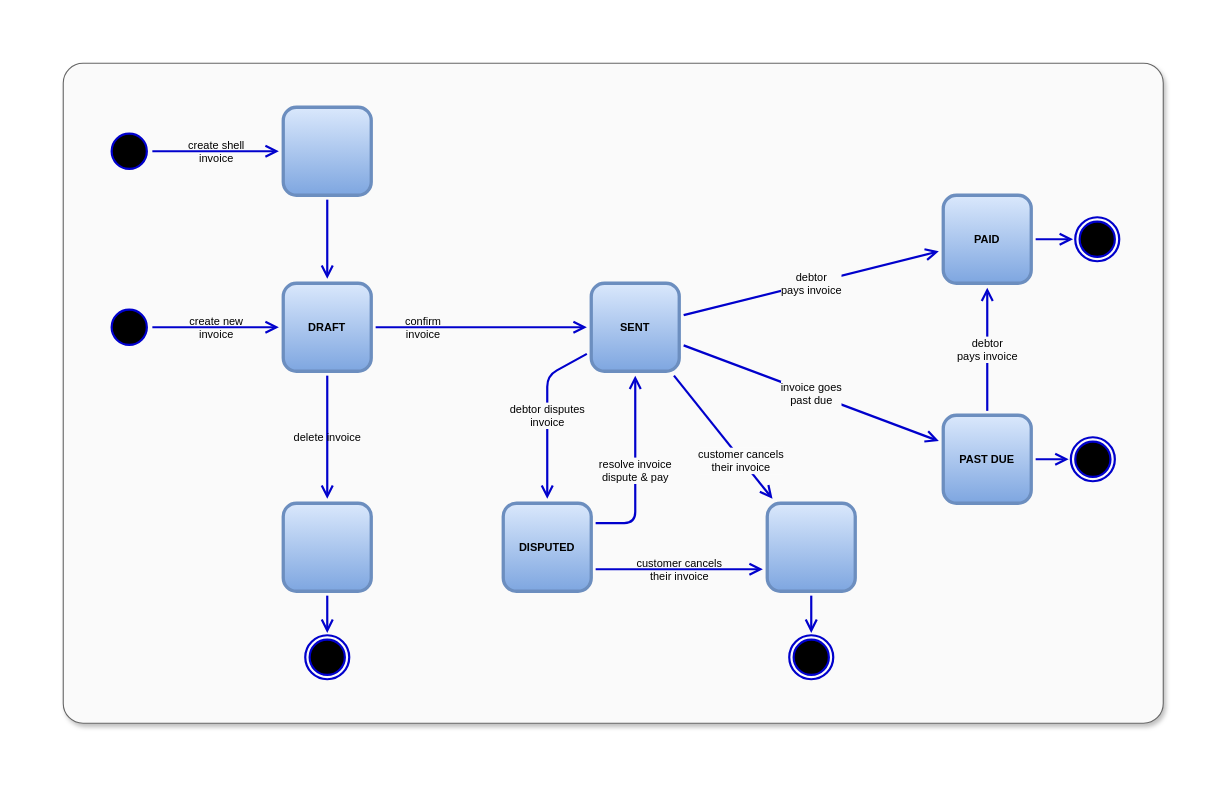
The diagram is 1225 pixels wide and 785 high, and some of its shapes have lost their labels. Each missing label, with the centre of its shape:
"CANCELLED" goes at point (810, 546).
"DELETED" goes at point (326, 546).
"NONE" goes at point (326, 150).
